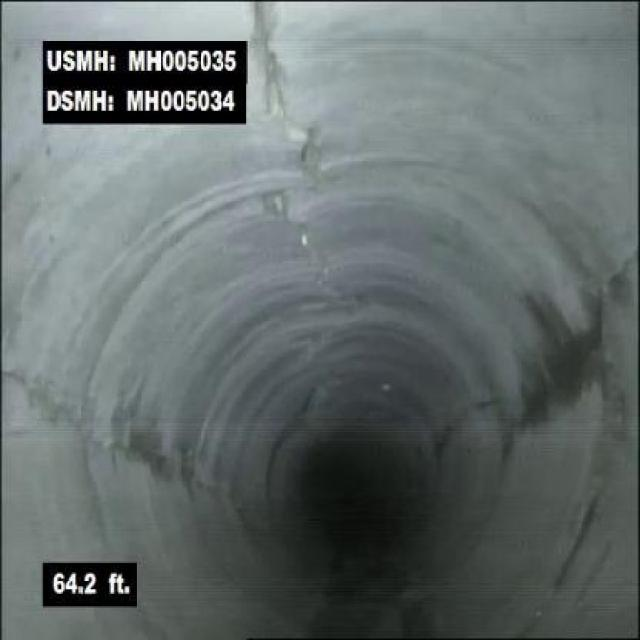Buckling: (251, 6, 332, 177), (258, 188, 317, 250)
Crack: (6, 365, 83, 429), (89, 426, 157, 465), (598, 251, 637, 318)
